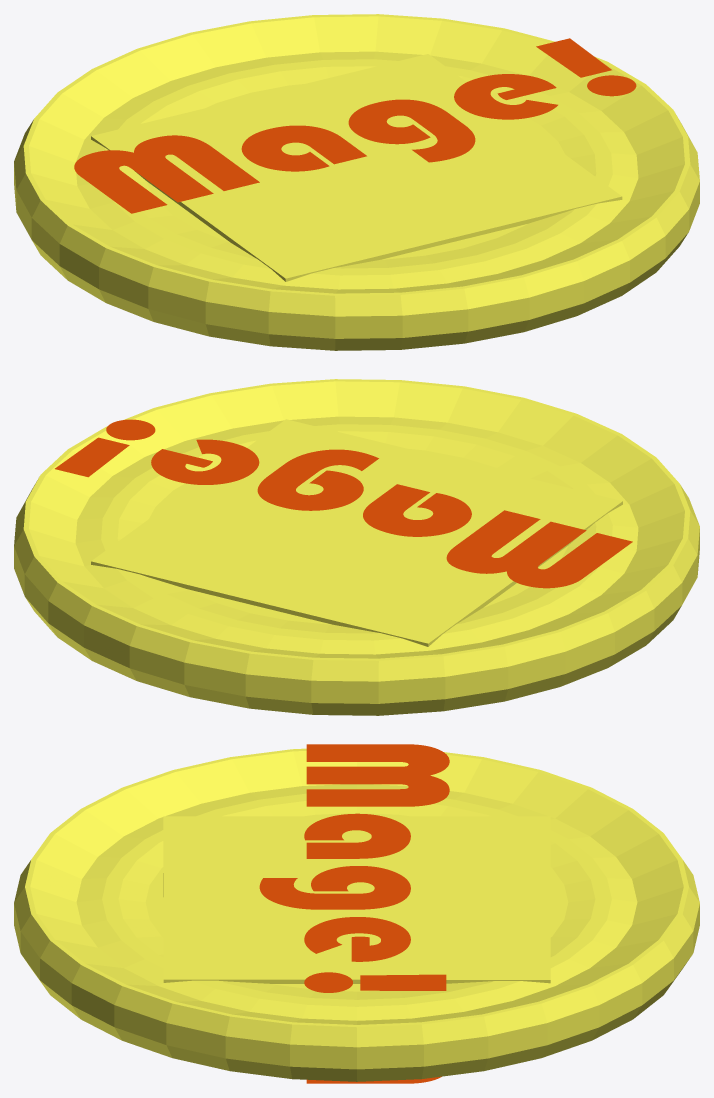
File: coin.fbx
The picture shows the model from 3 angles, top to bottom: view 1: azimuth 30°, elevation 25°; view 2: azimuth 150°, elevation 25°; view 3: azimuth 270°, elevation 25°; orthographic projection.
Parts seen in each view (by area): view 1: Cylinder, Mage!; view 2: Cylinder, Mage!; view 3: Cylinder, Mage!.
Boxes of the visible parts, x1,y1,x2,y2 form: Cylinder: (14, 14, 699, 350); Mage!: (74, 38, 636, 213); Cylinder: (14, 379, 699, 715); Mage!: (55, 419, 632, 588); Cylinder: (14, 748, 699, 1081); Mage!: (259, 744, 449, 992).
Bounding box in the file's own units: 206 × 30.65 × 207.
